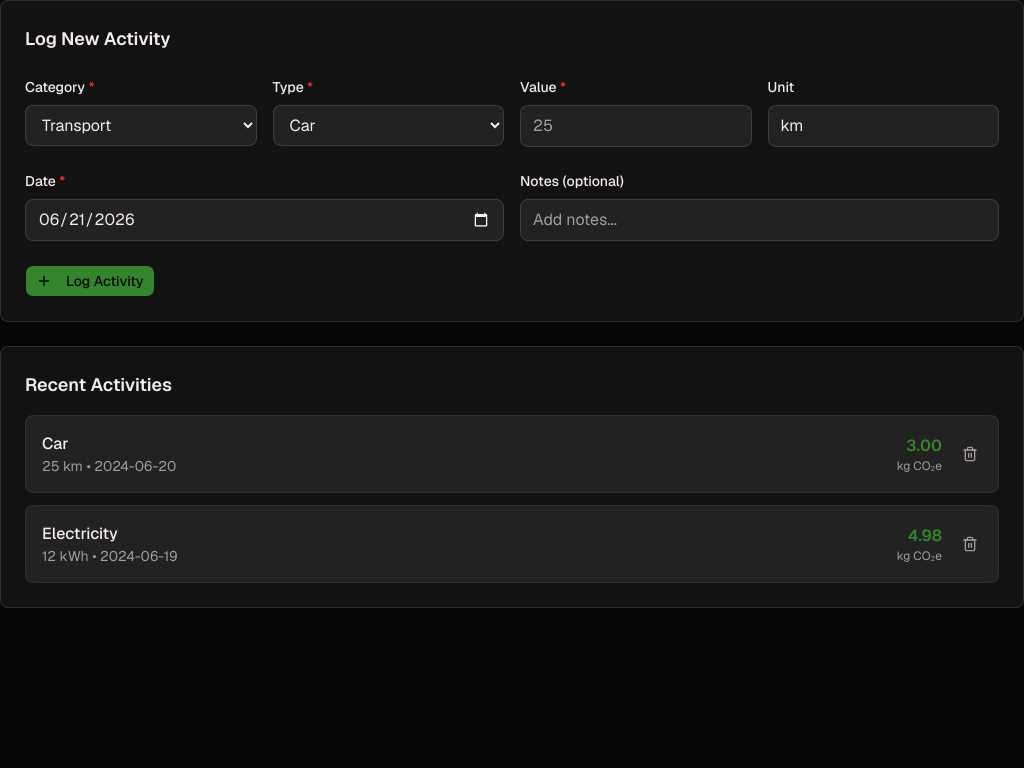
ActivityForm - Field Validation › should clear form after successful submission
Type "50" into the number field with placeholder "25" at (636, 126), box x1=520 y1=105 x2=752 y2=147
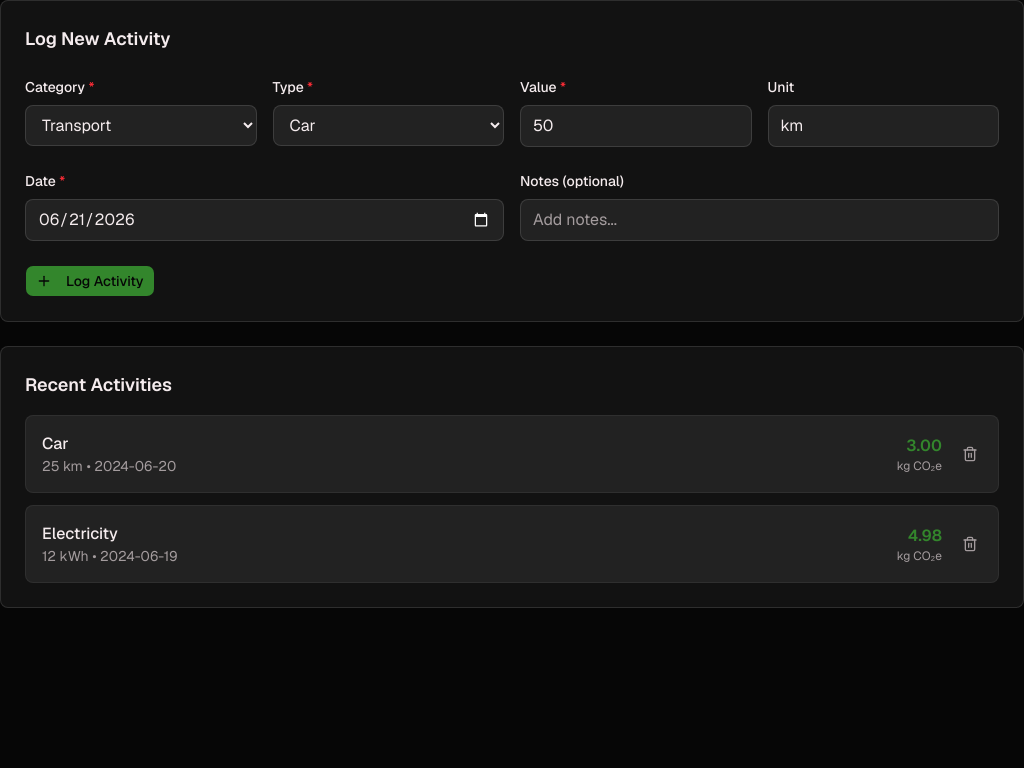
Click the button "Log Activity" at (90, 281), box x1=25 y1=265 x2=155 y2=297
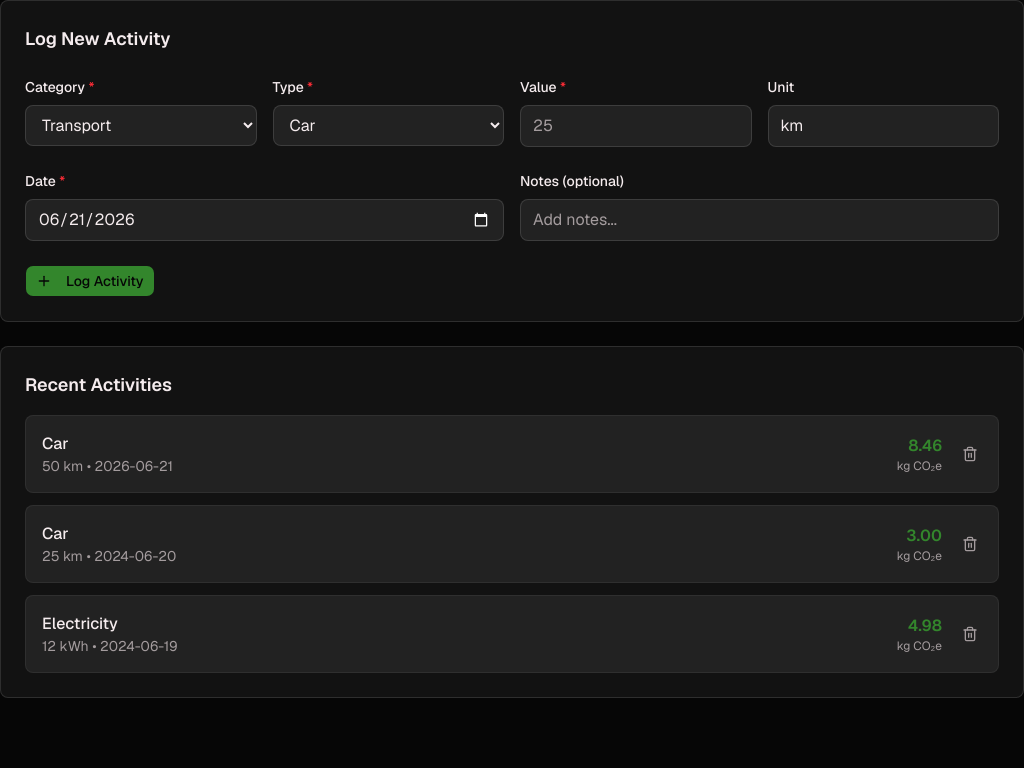
Expected: the number field with placeholder "25" is empty, x1=520 y1=105 x2=752 y2=147
